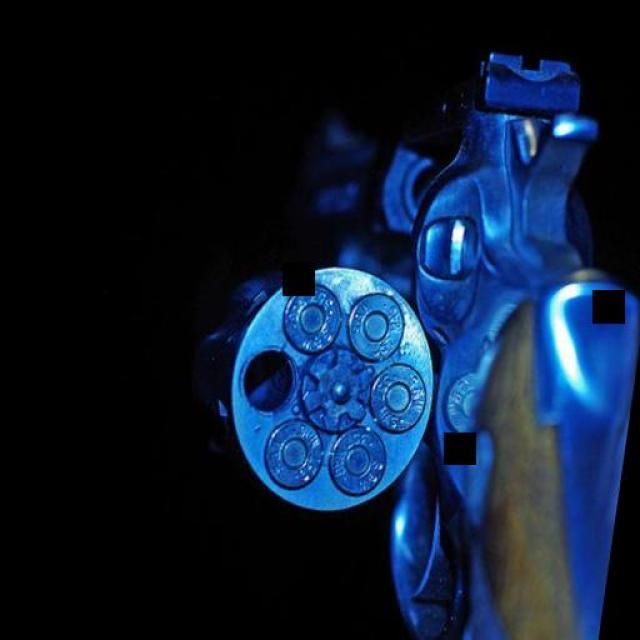gun: (162, 11, 640, 640)
